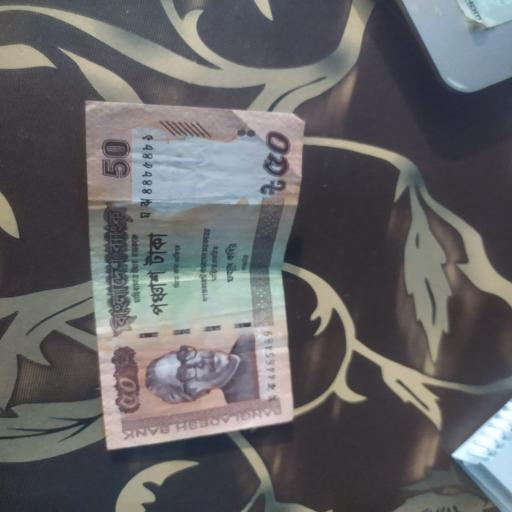50taka: (85, 101, 304, 449)
